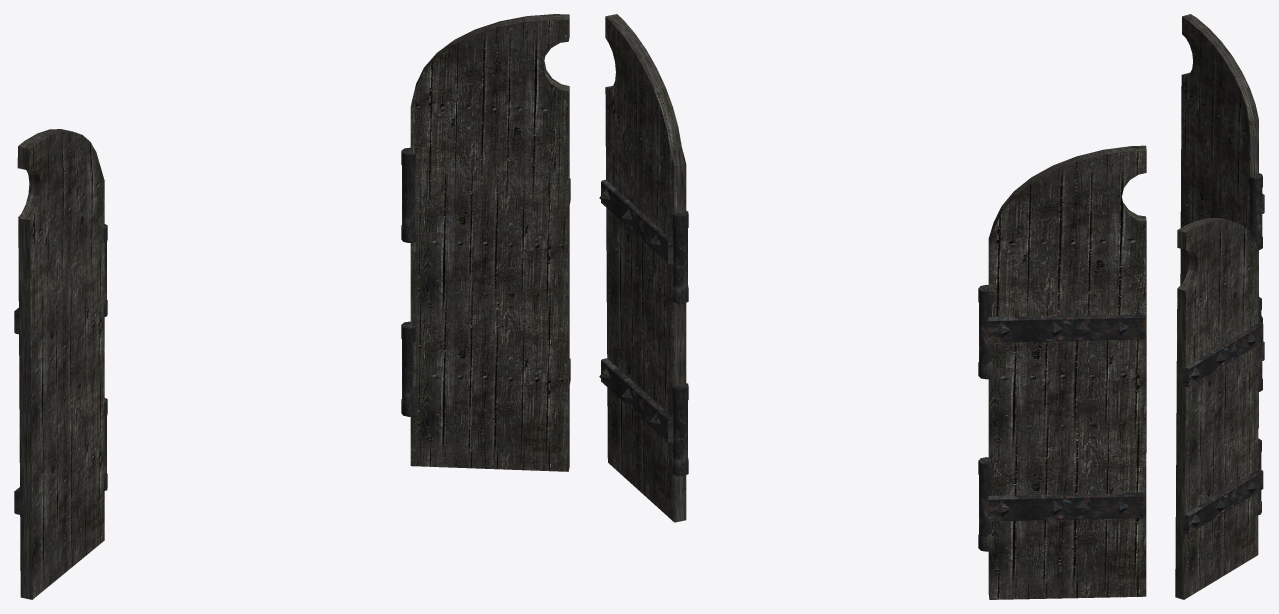
The model's file is Window_Barriers_01.fbx.
The picture shows the model from 3 angles, left to right: view 1: azimuth 30°, elevation 25°; view 2: azimuth 150°, elevation 25°; view 3: azimuth 270°, elevation 25°; orthographic projection. The views are drawn at different scales.
Parts seen in each view (by area): view 1: Window_Barriers_01; view 2: Window_Barriers_01; view 3: Window_Barriers_01.
Part boxes in pixels (<box>): Window_Barriers_01: <box>14,14,570,599</box>; Window_Barriers_01: <box>599,14,1146,599</box>; Window_Barriers_01: <box>1175,14,1264,599</box>.
Bounding box in the file's own units: 149 × 116 × 25.64.
